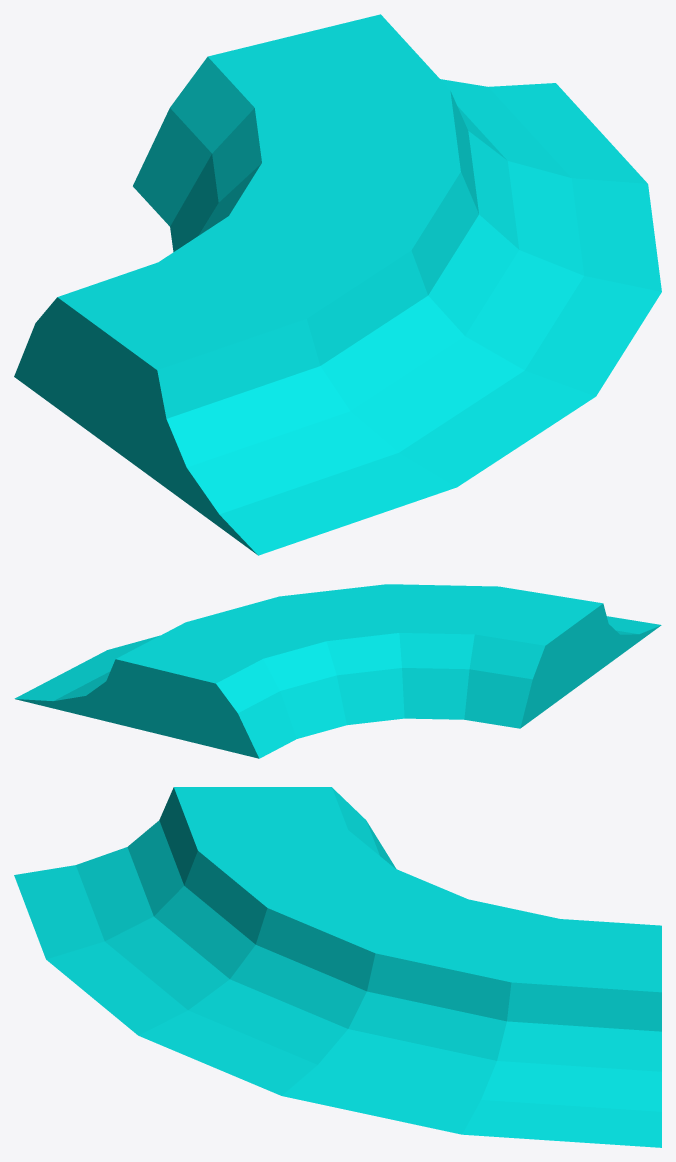
File: SM_Env_Ramp_Curve_S_L_02_Collision.fbx
3 views of the same model, one above another, from view 1: azimuth 30°, elevation 25°; view 2: azimuth 150°, elevation 25°; view 3: azimuth 270°, elevation 25° (orthographic). The views are drawn at different scales.
Visible parts, largest first — view 1: SM_Env_Ramp_Curve_S_L_02_Collision; view 2: SM_Env_Ramp_Curve_S_L_02_Collision; view 3: SM_Env_Ramp_Curve_S_L_02_Collision.
Boxes of the visible parts, left/top/right/bottom form: SM_Env_Ramp_Curve_S_L_02_Collision: left=14, top=14, right=661, bottom=555; SM_Env_Ramp_Curve_S_L_02_Collision: left=14, top=584, right=661, bottom=758; SM_Env_Ramp_Curve_S_L_02_Collision: left=14, top=787, right=661, bottom=1147.
Size of the model in its own units: 499 by 75 by 500.
